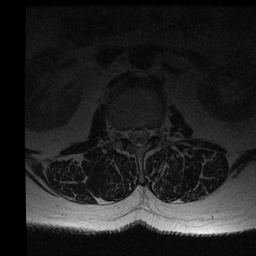CCS_normal: (135, 121, 143, 152)
LFS_stenosis: (151, 121, 159, 142)
LLS_normal: (142, 121, 151, 146)
RFS_normal: (119, 122, 126, 146)
RLS_normal: (126, 122, 135, 146)
